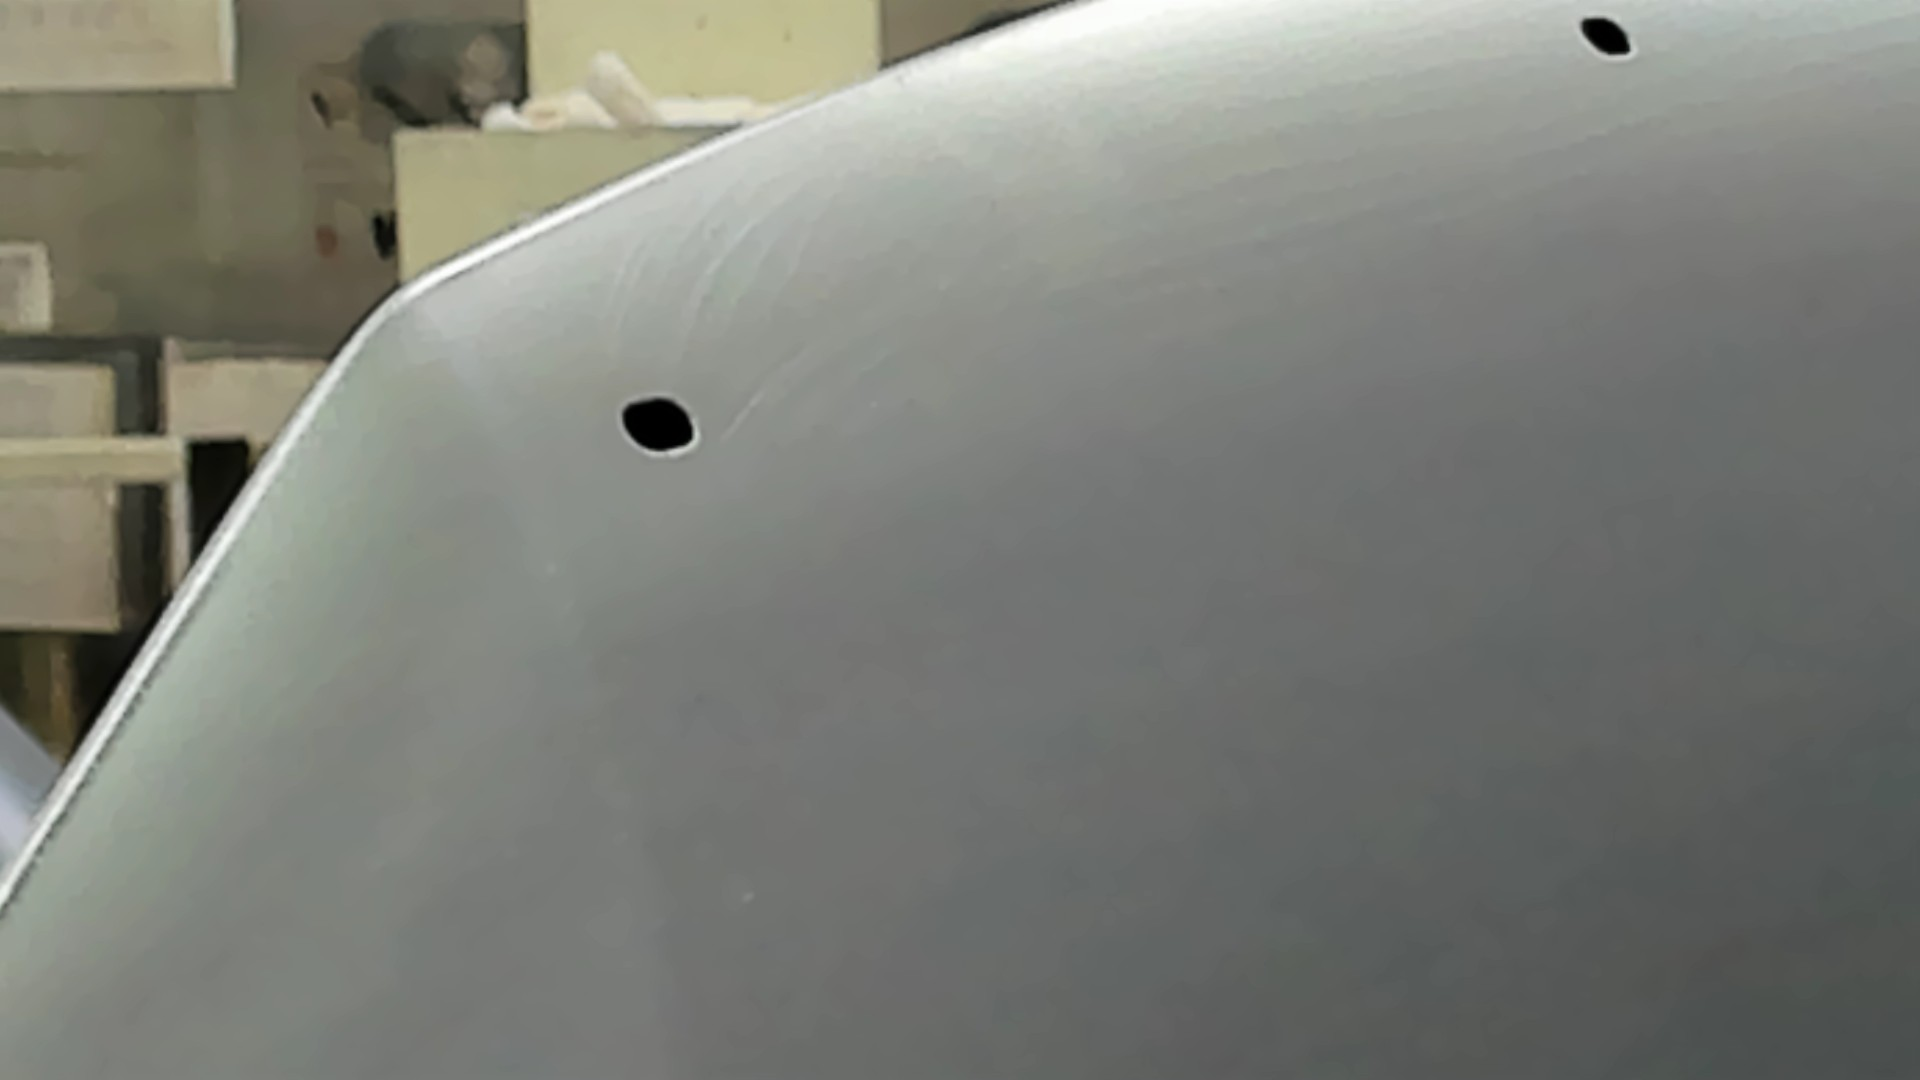amorfo: (611, 390, 704, 458), (1568, 8, 1640, 69)
